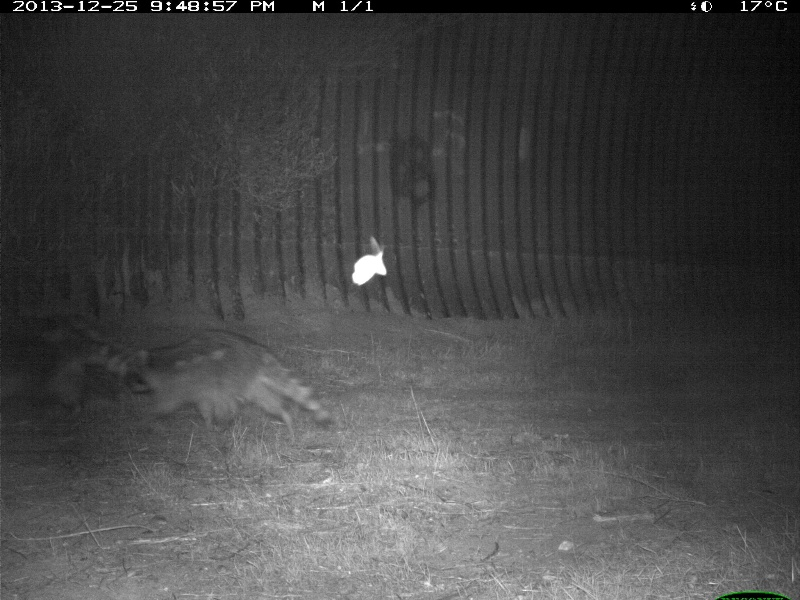raccoon: (122, 330, 336, 445), (1, 308, 136, 411)
